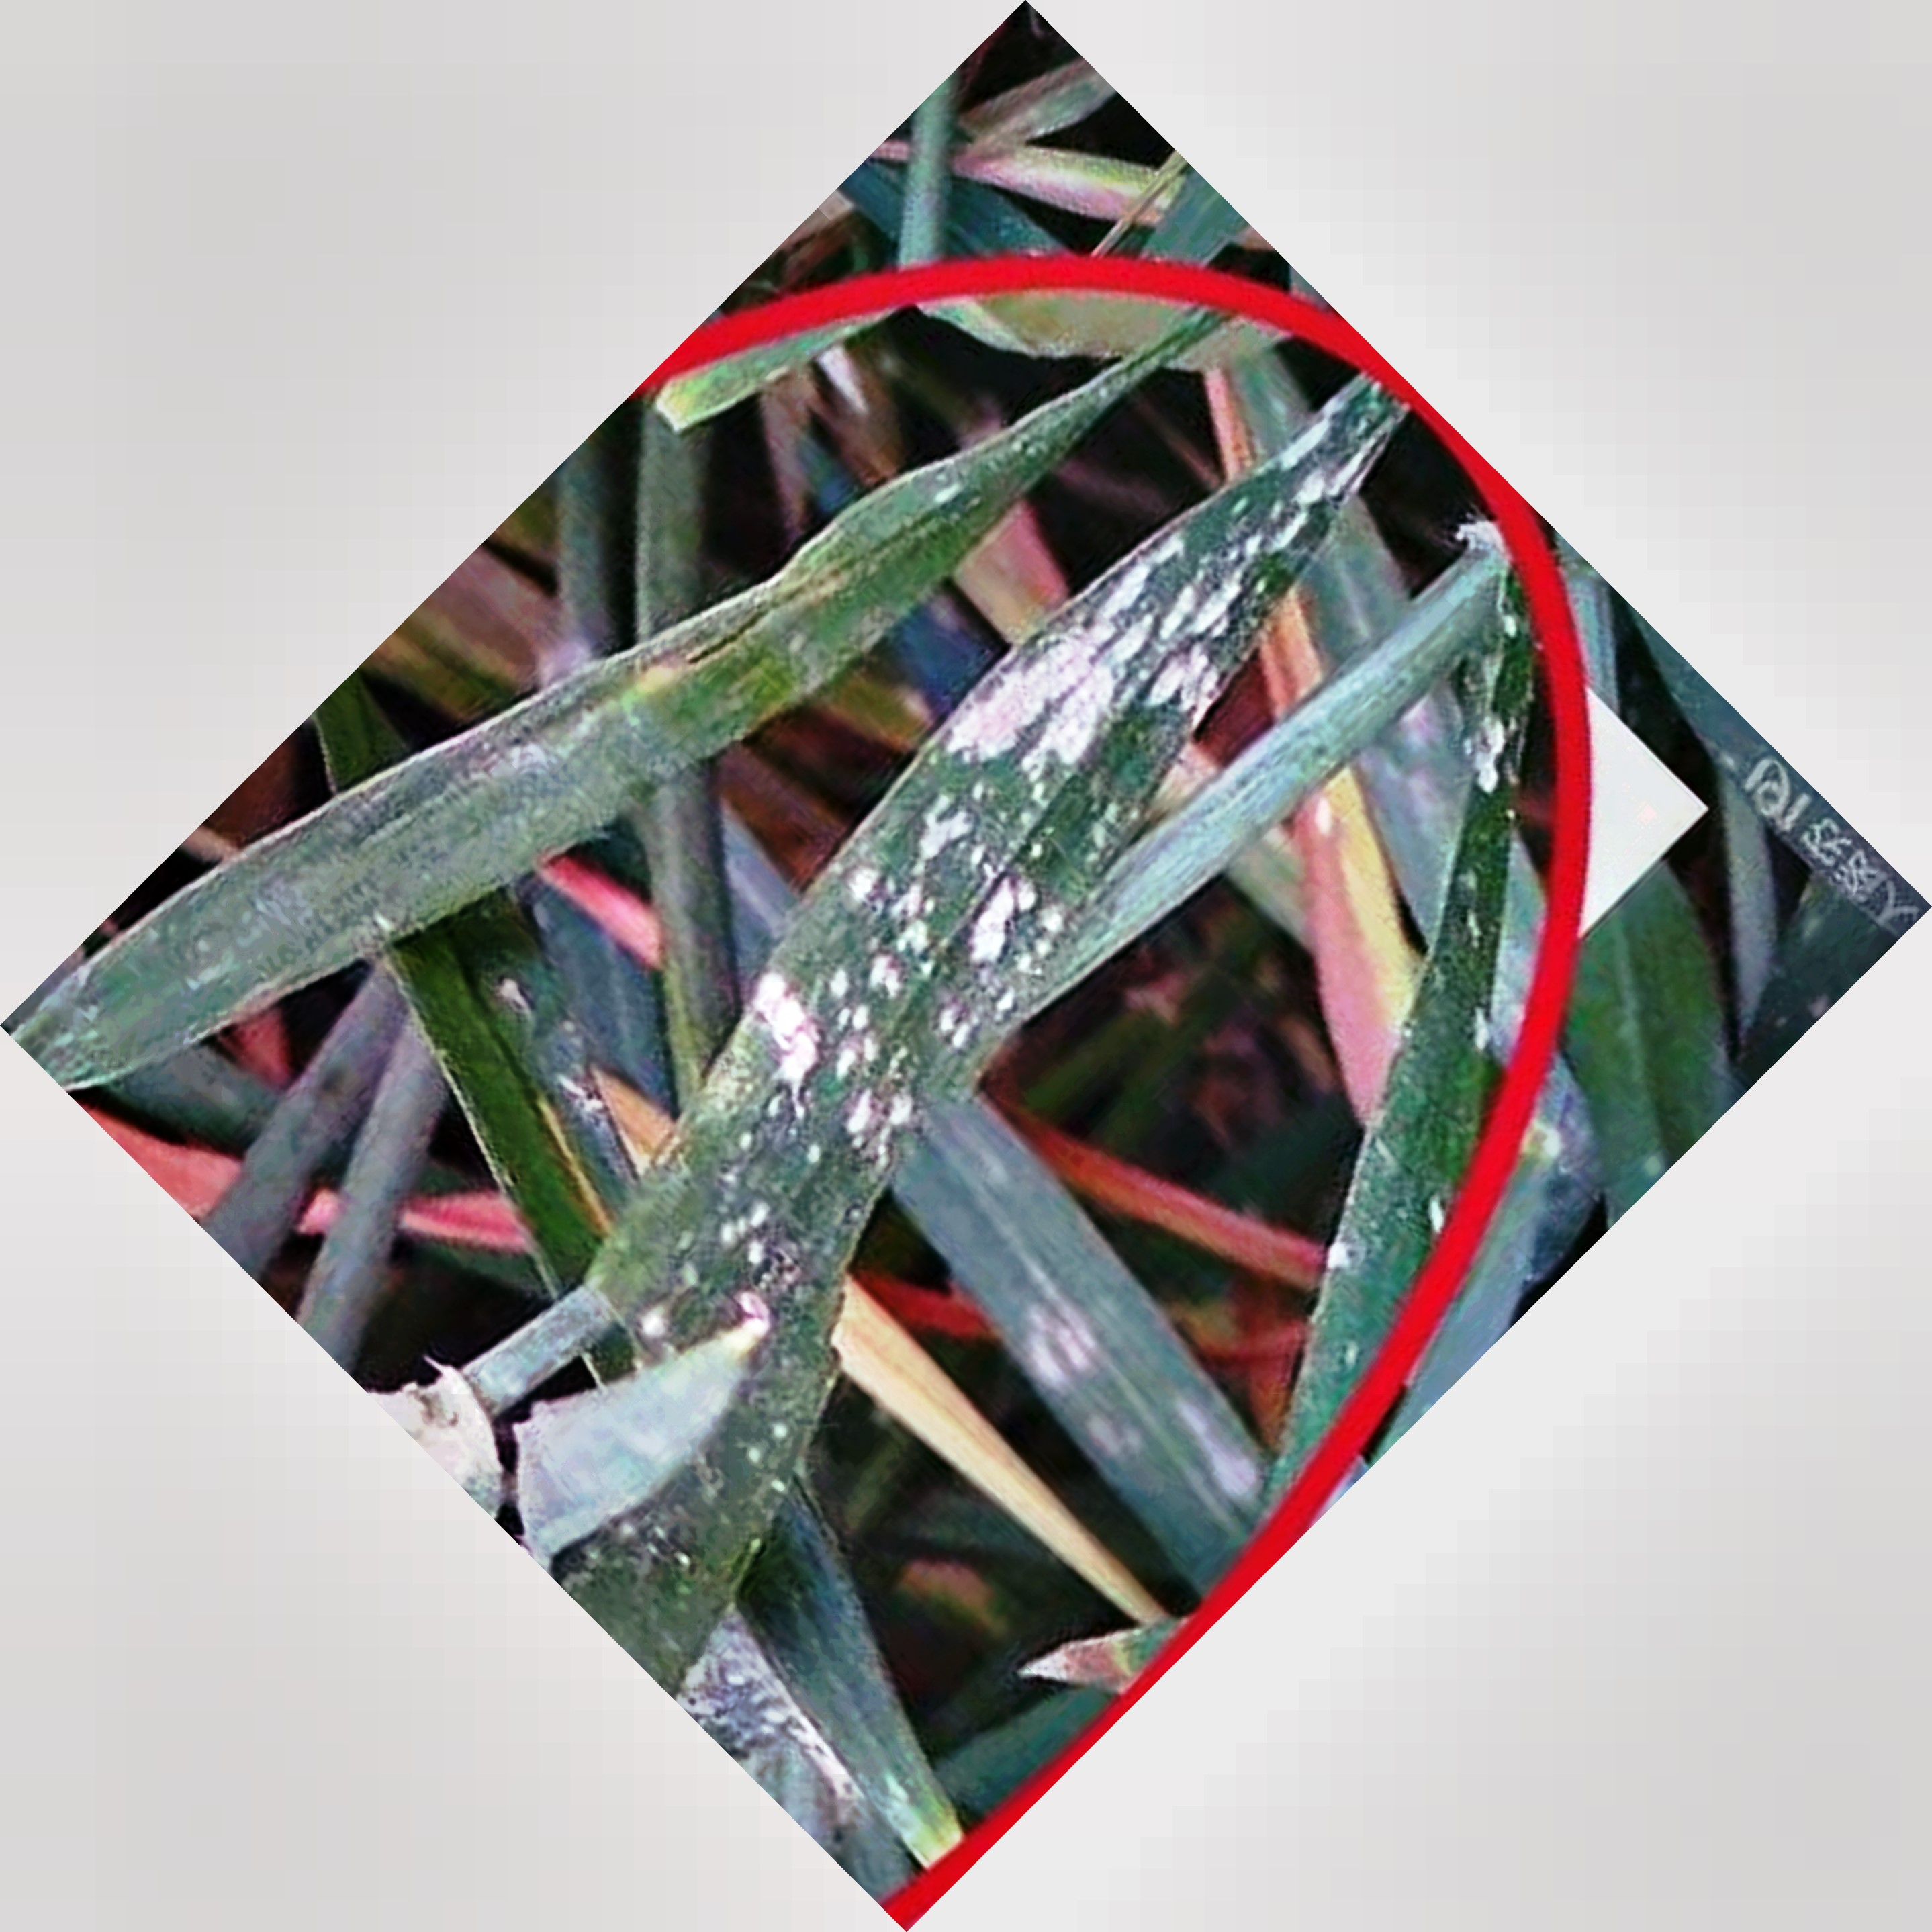Powdery Mildew: (713, 488, 1293, 1309)
